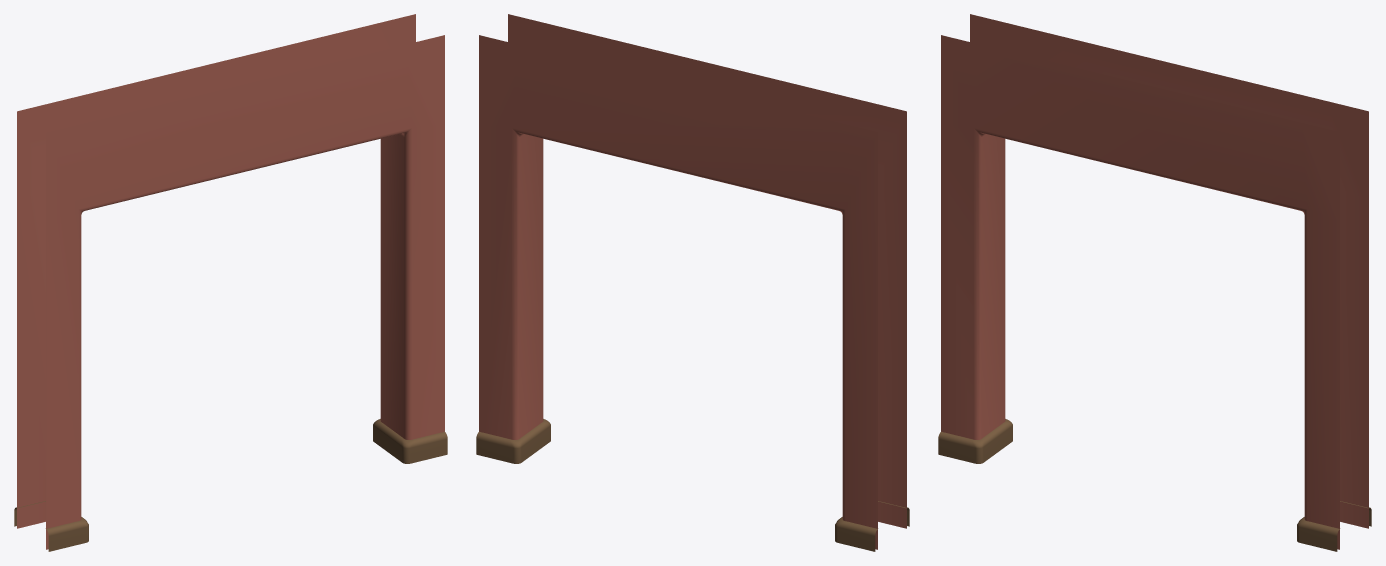
File: SM_Buildings_Wall_Door_01.fbx
The picture shows the model from 3 angles, left to right: view 1: azimuth 30°, elevation 25°; view 2: azimuth 150°, elevation 25°; view 3: azimuth 330°, elevation 25°; orthographic projection.
Parts seen in each view (by area): view 1: SM_Wall_Door_01, SM_Wall_01.001; view 2: SM_Wall_Door_01, SM_Wall_01.001; view 3: SM_Wall_Door_01, SM_Wall_01.001.
Boxes of the visible parts, bbox=[...] form: SM_Wall_Door_01: bbox=[17, 14, 444, 549]; SM_Wall_01.001: bbox=[14, 419, 447, 551]; SM_Wall_Door_01: bbox=[479, 14, 906, 549]; SM_Wall_01.001: bbox=[476, 419, 909, 551]; SM_Wall_Door_01: bbox=[941, 14, 1368, 549]; SM_Wall_01.001: bbox=[938, 419, 1371, 551].
Size of the model in its own units: 400 by 400 by 60.
